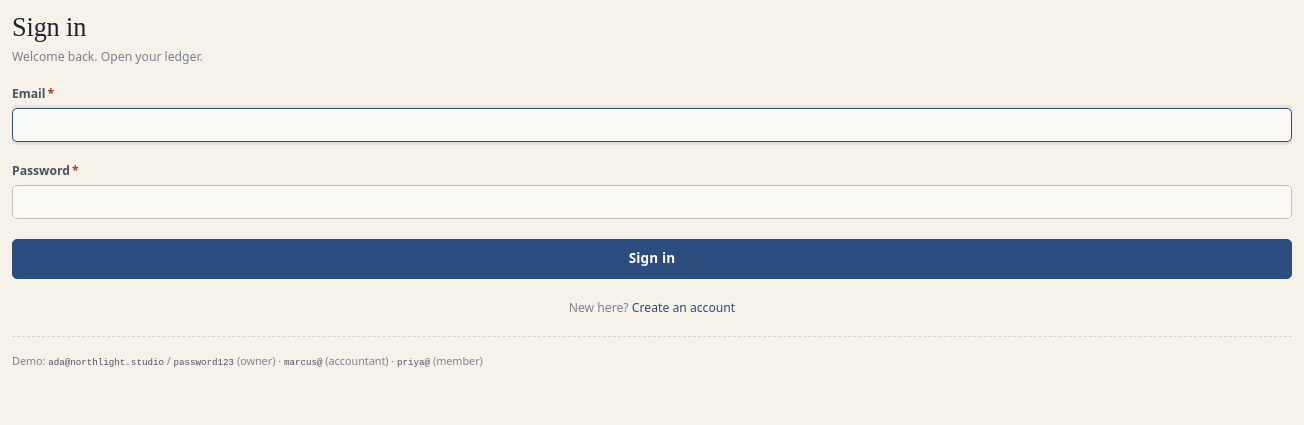
LoginPage › validates locally before hitting the API
The width and height of the screenshot is (1304, 425).
Type "nope" into the field labelled "Email" at (652, 125), box [12,108,1292,142]
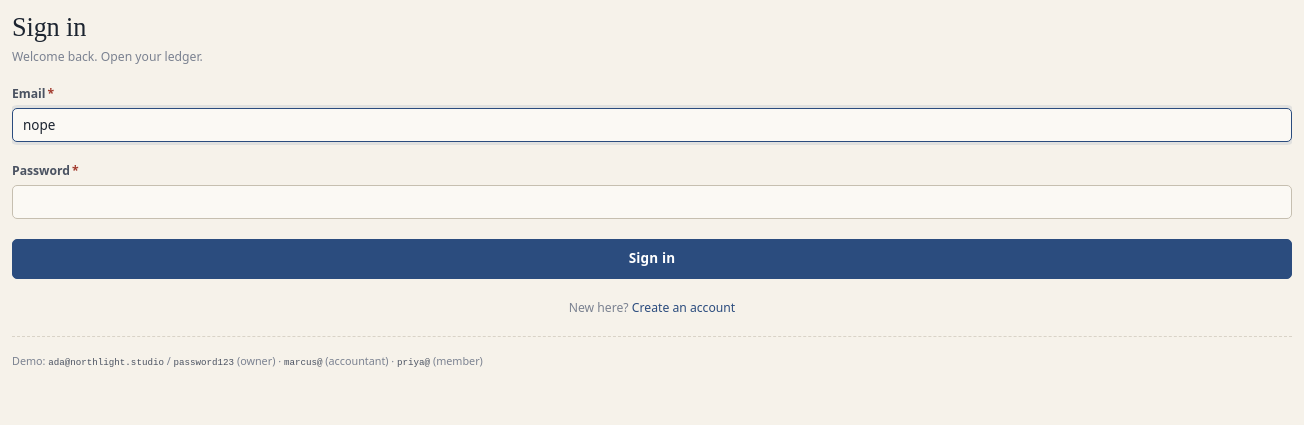
Click the button "Sign in" at (652, 258), box [12,238,1292,278]
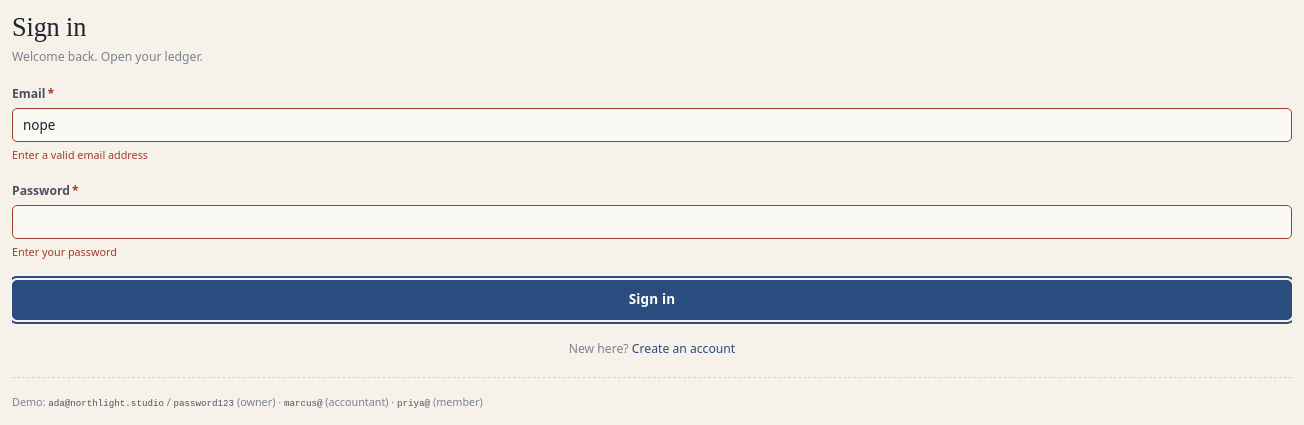
Expected: the text "Enter a valid email address" is shown, [12,147,148,162]
Expected: the text "Enter your password" is shown, [12,244,117,259]
